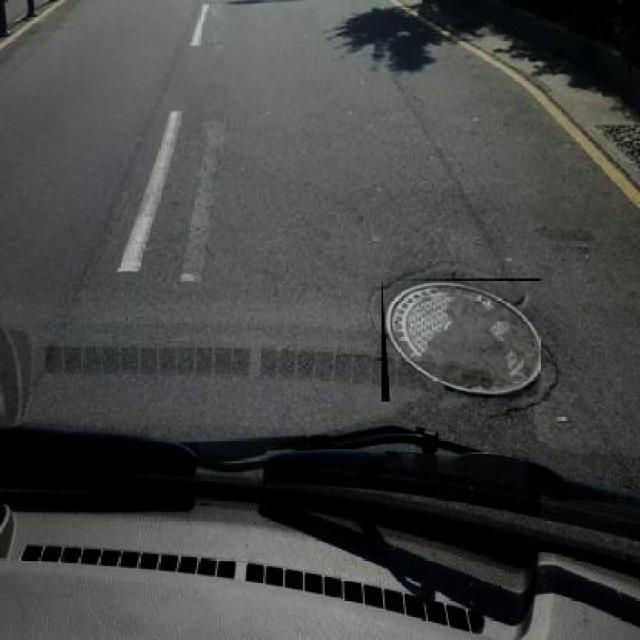Manhole: (382, 278, 540, 402)
Pothole: (508, 290, 531, 307), (440, 381, 458, 397)
